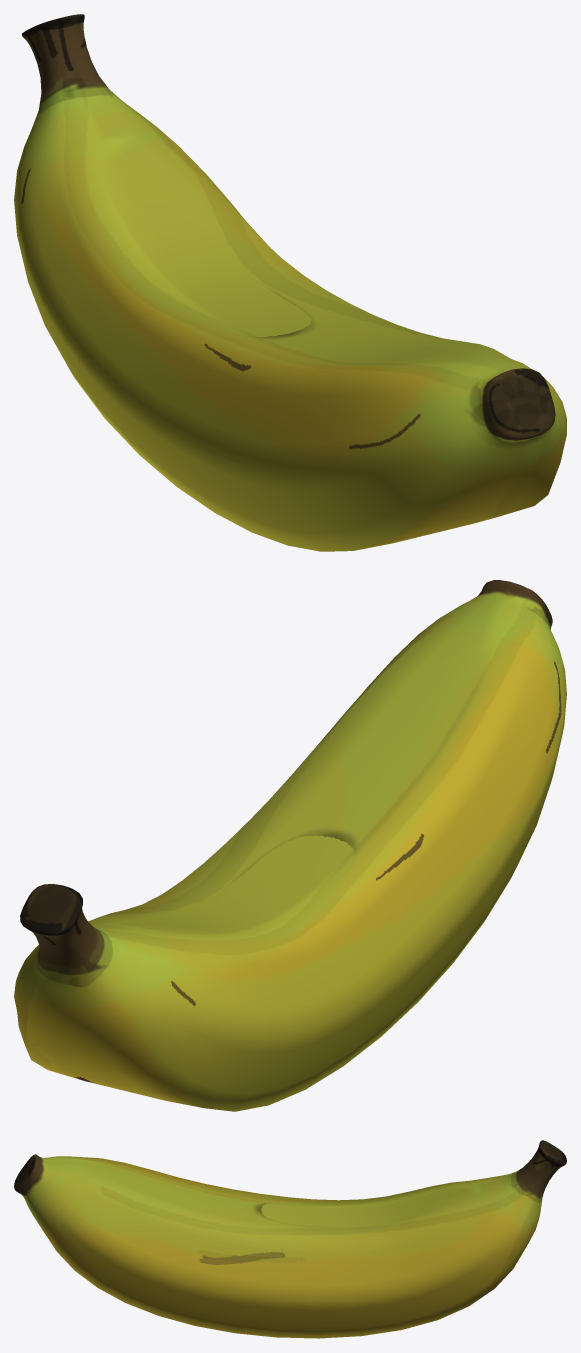
File: banana.glb
3 views of the same model, one above another, from view 1: azimuth 30°, elevation 25°; view 2: azimuth 150°, elevation 25°; view 3: azimuth 270°, elevation 25° (orthographic). The views are drawn at different scales.
Parts seen in each view (by area): view 1: Banana; view 2: Banana; view 3: Banana.
Boxes of the visible parts, x1=… form: Banana: x1=14, y1=14, x2=566, y2=551; Banana: x1=14, y1=580, x2=566, y2=1111; Banana: x1=14, y1=1140, x2=566, y2=1338.
Size of the model in its own units: 9.96 by 12.57 by 36.57.
Materials: 1 (1 with a texture image).
